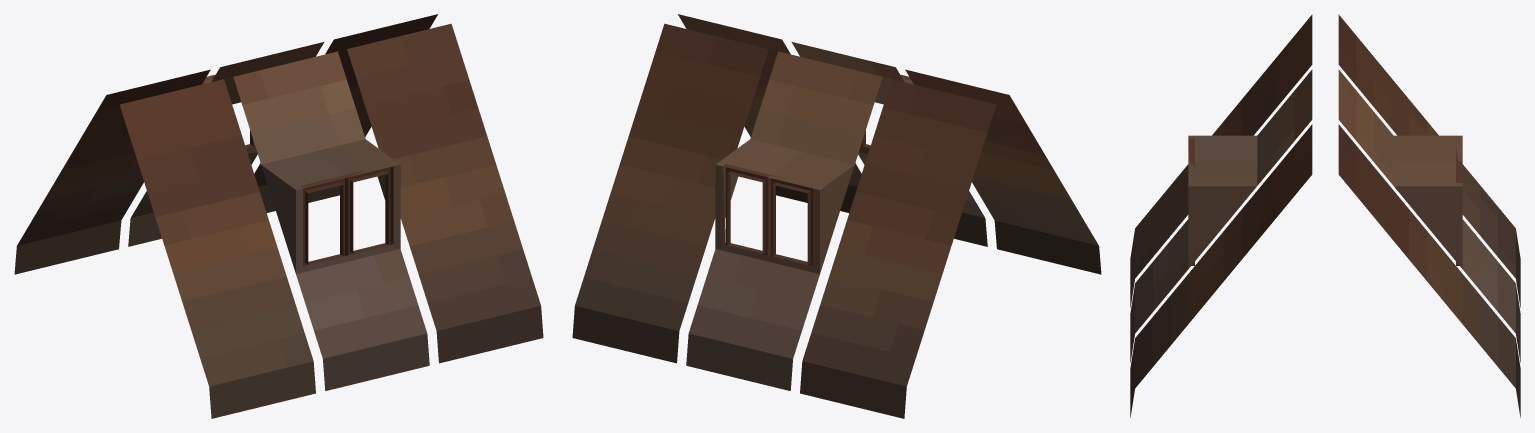
Rendered from Ceiling_HomeA-RoofPanelB-6m.fbx.
3 views of the same model, side by side, from view 1: azimuth 30°, elevation 25°; view 2: azimuth 150°, elevation 25°; view 3: azimuth 270°, elevation 25° (orthographic).
Visible parts, largest first — view 1: Ceiling_HomeA-RoofPanelB-6m; view 2: Ceiling_HomeA-RoofPanelB-6m; view 3: Ceiling_HomeA-RoofPanelB-6m.
Part boxes in pixels (x1=…): Ceiling_HomeA-RoofPanelB-6m: x1=14, y1=14, x2=543, y2=418; Ceiling_HomeA-RoofPanelB-6m: x1=572, y1=14, x2=1101, y2=418; Ceiling_HomeA-RoofPanelB-6m: x1=1130, y1=14, x2=1520, y2=417.
Bounding box in the file's own units: 584 × 415 × 600.
